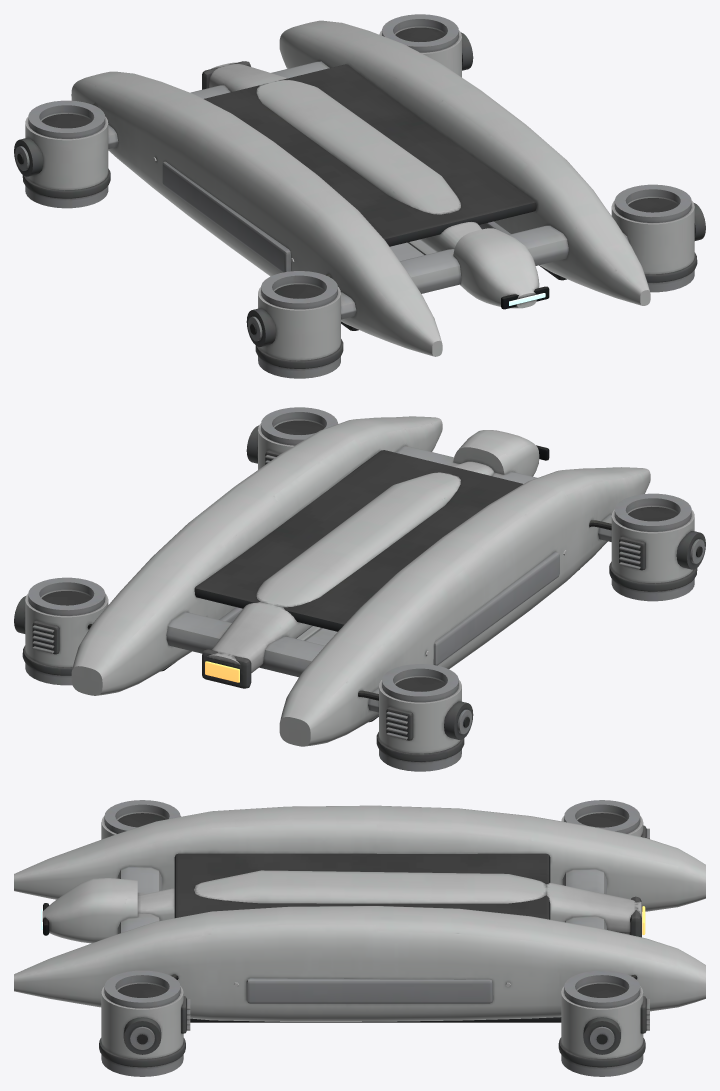
Rendered from hauler.glb.
3 renders of one model, top to bottom at view 1: azimuth 30°, elevation 25°; view 2: azimuth 150°, elevation 25°; view 3: azimuth 270°, elevation 25°, orthographic.
Visible parts, largest first — view 1: body, thruster_0, thruster_2, thruster_3, thruster_1, bay; view 2: body, thruster_2, thruster_0, thruster_1, thruster_3, vent_0, bay; view 3: body, thruster_3, thruster_1, thruster_0, thruster_2, vent_0.
Part boxes in pixels (x1,y1,x2,y2): body: [71, 20, 650, 356]; thruster_0: [14, 100, 110, 208]; thruster_2: [246, 271, 343, 378]; thruster_3: [611, 184, 705, 292]; thruster_1: [379, 14, 473, 77]; bay: [390, 221, 510, 261]; body: [71, 416, 650, 746]; thruster_2: [589, 493, 705, 601]; thruster_0: [358, 664, 473, 771]; thruster_1: [14, 577, 108, 685]; thruster_3: [246, 407, 338, 469]; vent_0: [202, 649, 251, 688]; bay: [219, 607, 337, 645]; body: [14, 805, 705, 1022]; thruster_3: [99, 970, 190, 1076]; thruster_1: [558, 970, 649, 1076]; thruster_0: [561, 800, 649, 838]; thruster_2: [101, 800, 181, 839]; vent_0: [629, 896, 645, 937].
Size of what is drawn, in the model's own units: 10.32 by 2.61 by 14.
Materials: 4 (1 with a texture image).
